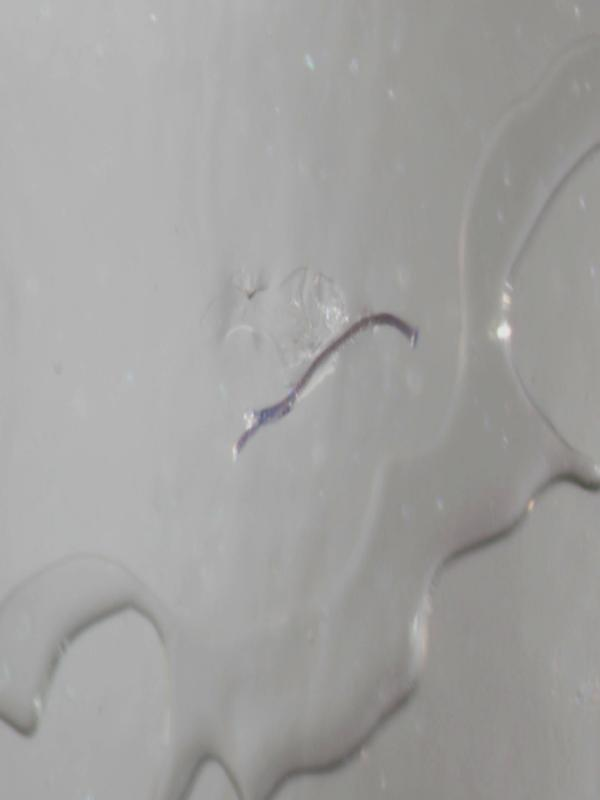microplastic: (1, 4, 598, 799), (231, 309, 419, 464)
